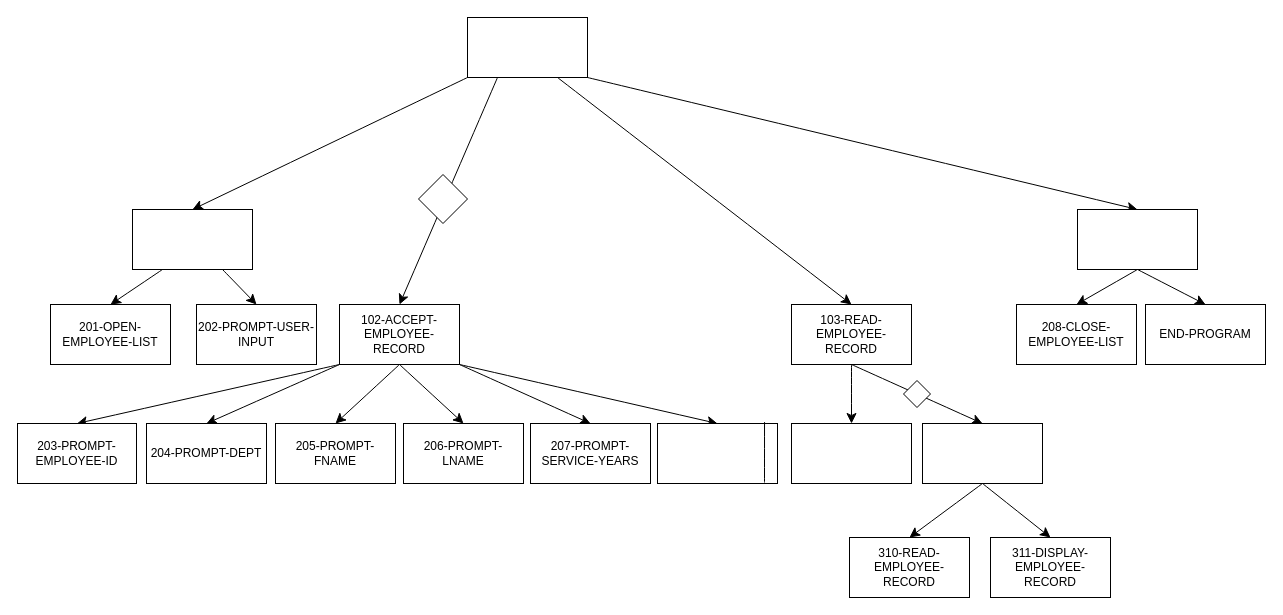
Some shapes in this 1283 by 615 pixel diagram are drawn without their labels. Each missing label, with the centre of its shape:
100-PRODUCE-EMPLOYEE-LIST: the point at 527,47
101-INIT-ROUTINE: the point at 192,239
104-CLOSE-ROUTINE: the point at 1137,239
208-WRITE-RECORD: the point at 717,453
209-OPEN-INPUT: the point at 851,453
210-READ-ONE-EMPLOYEE-RECORD: the point at 982,453
